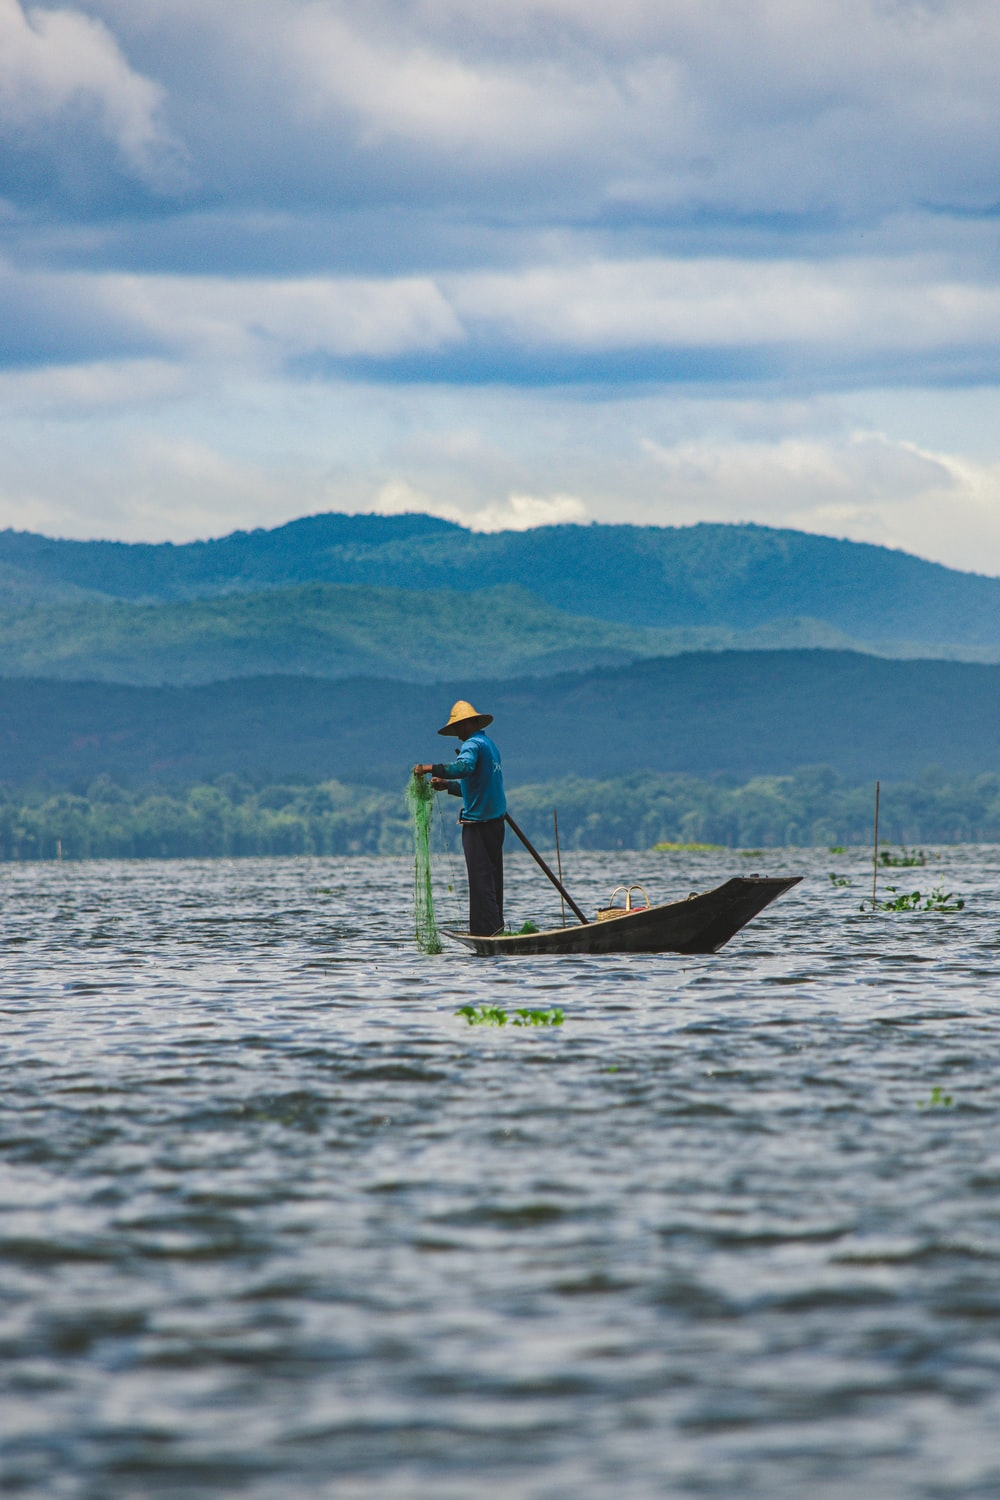face: (432, 692, 498, 758)
